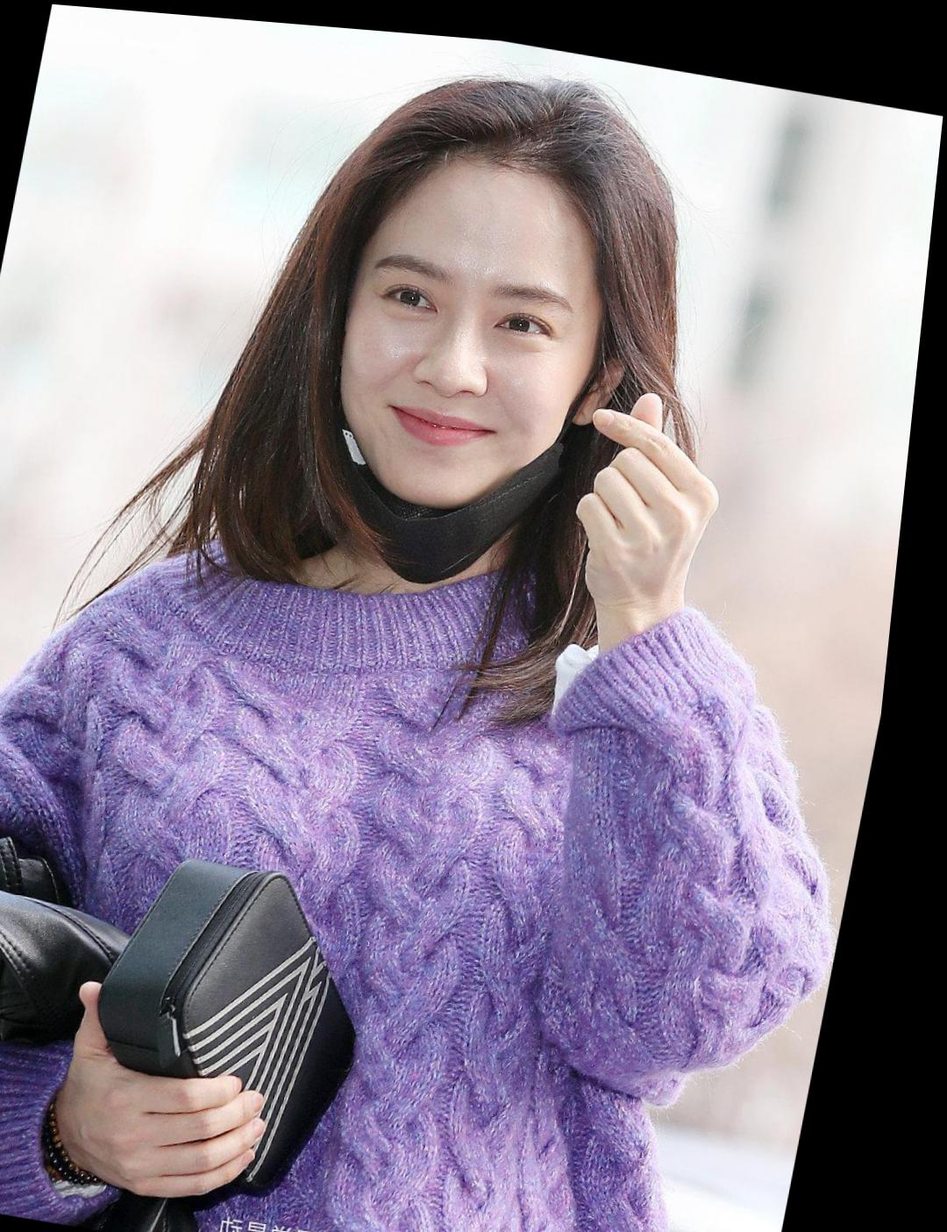WRONG: (323, 187, 626, 540)
